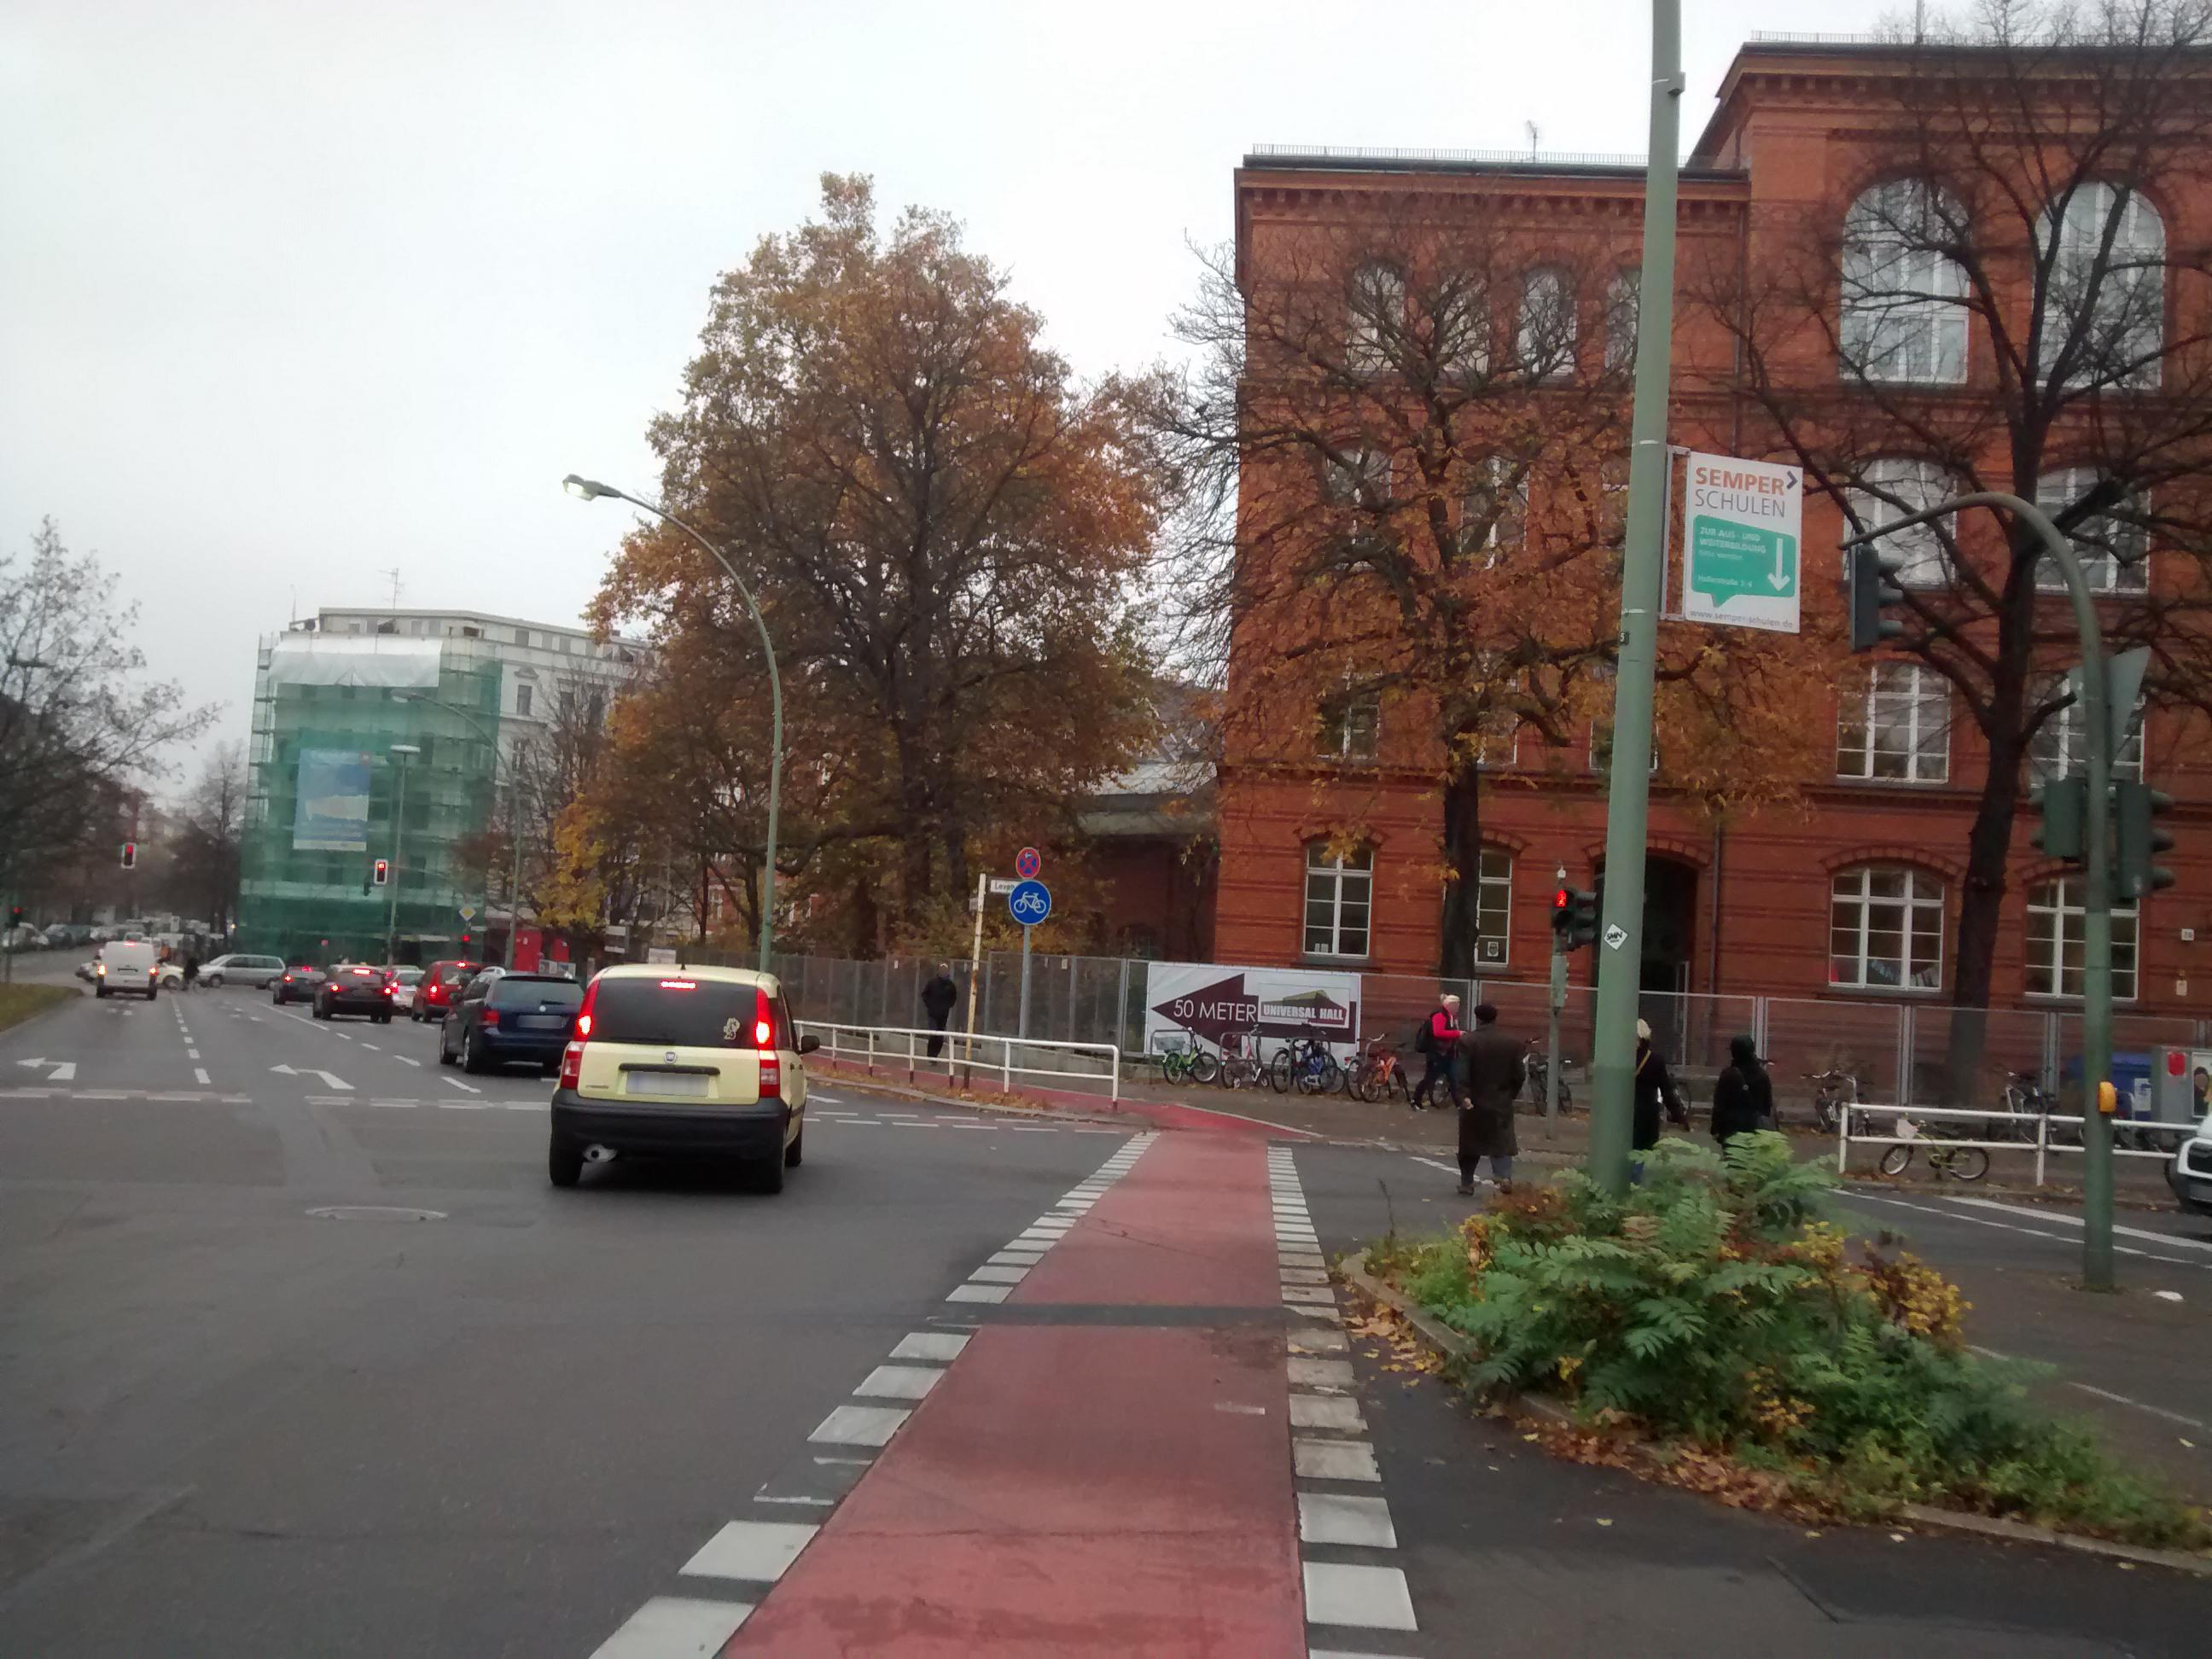vinyl banner: (1136, 946, 1369, 1082), (263, 627, 453, 699), (293, 728, 366, 864)
